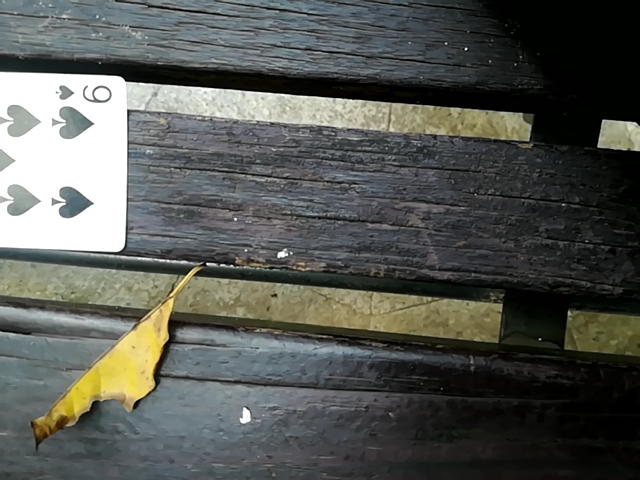ht 9: (0, 58, 128, 251)
